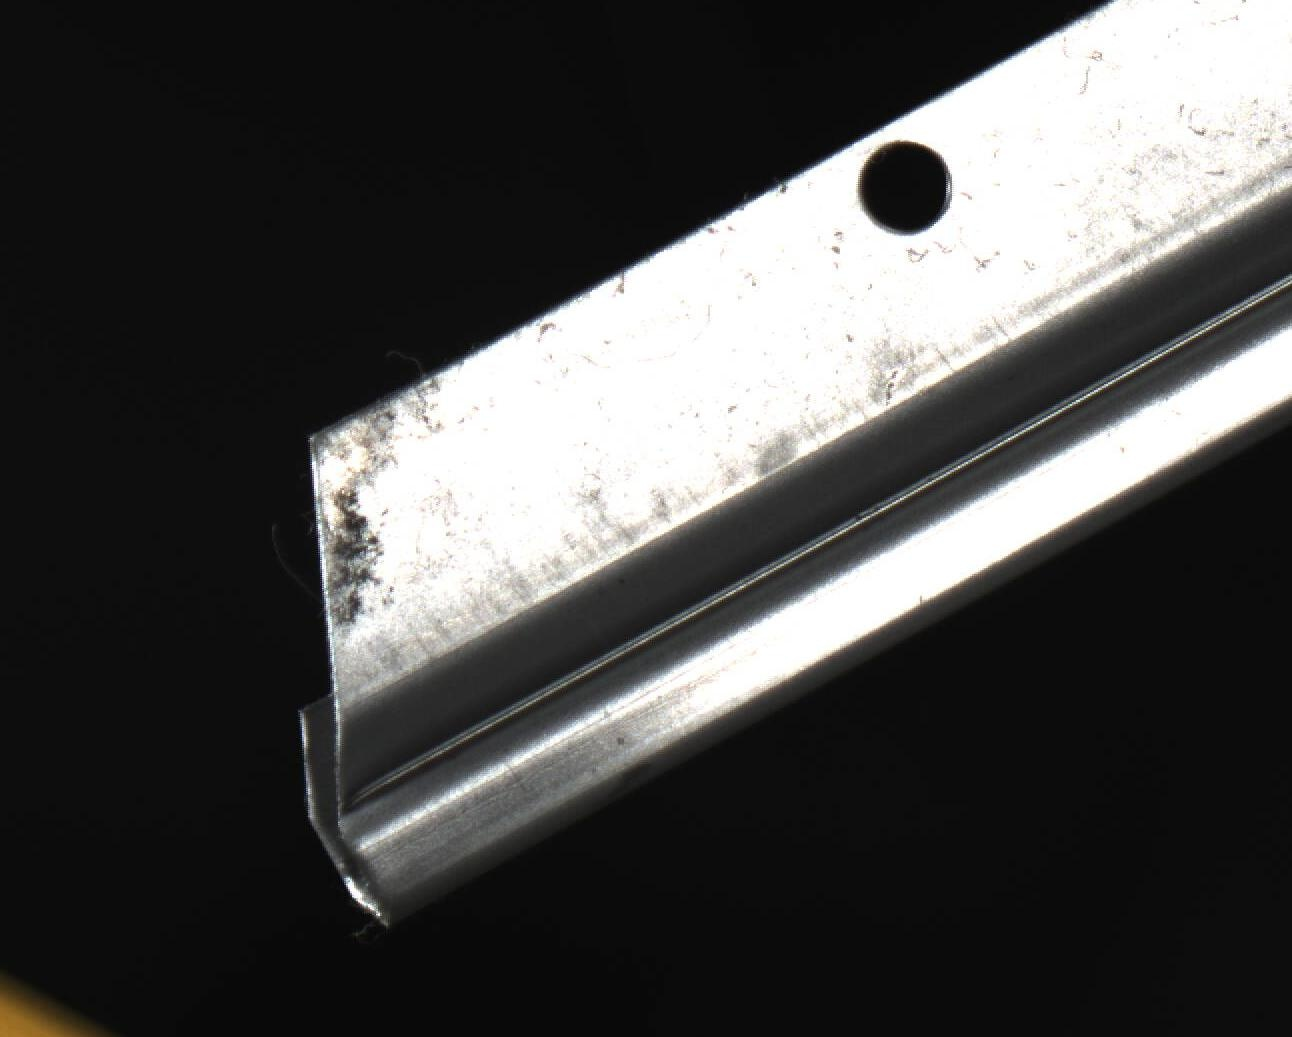cut: (219, 352, 665, 936)
holes: (855, 139, 956, 239)
